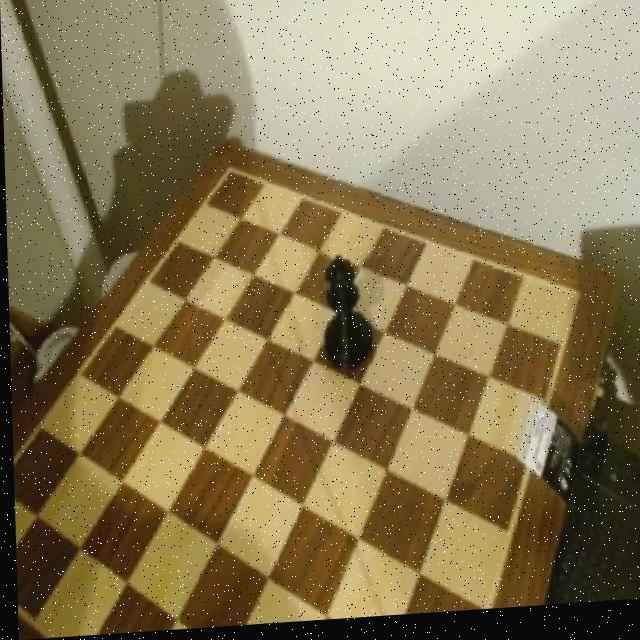black-pawn: (317, 253, 374, 374)
